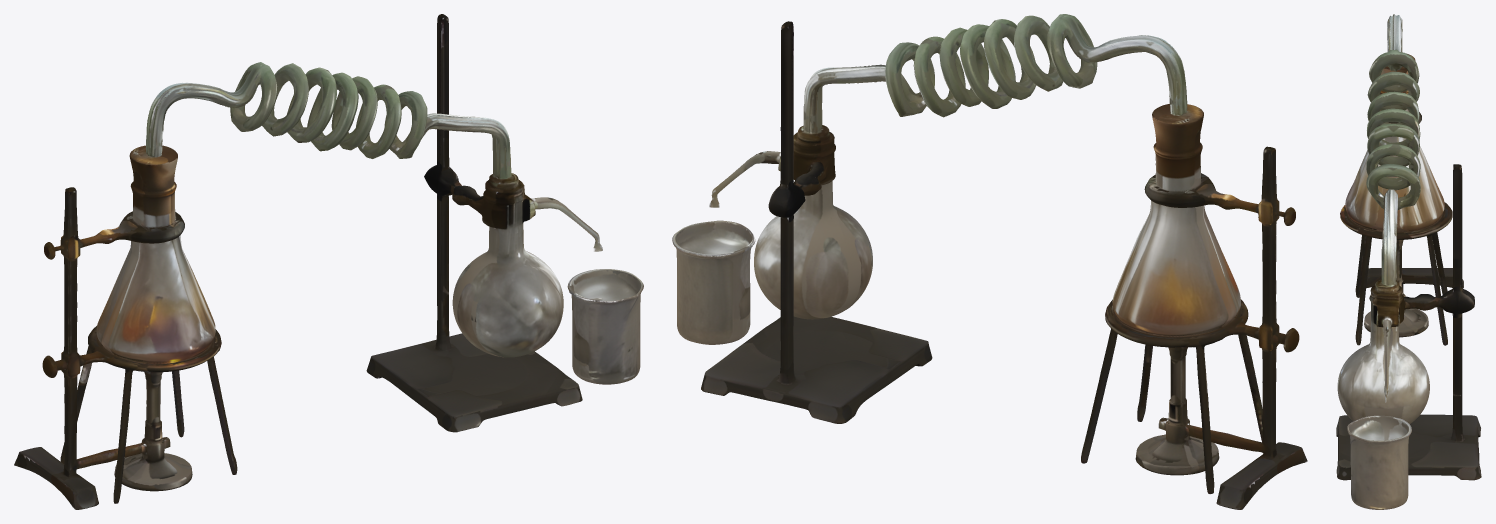
Rendered from base_basic_shaded.glb.
3 renders of one model, left to right at view 1: azimuth 30°, elevation 25°; view 2: azimuth 150°, elevation 25°; view 3: azimuth 270°, elevation 25°, orthographic. The views are drawn at different scales.
Parts seen in each view (by area): view 1: model; view 2: model; view 3: model.
Part boxes in pixels (x1,y1,x2,y2): model: (14,14,643,509); model: (672,14,1307,509); model: (1336,14,1481,509).
Bounding box in the file's own units: 1.9 × 1.2 × 0.4984.
Materials: 1 (1 with a texture image).
